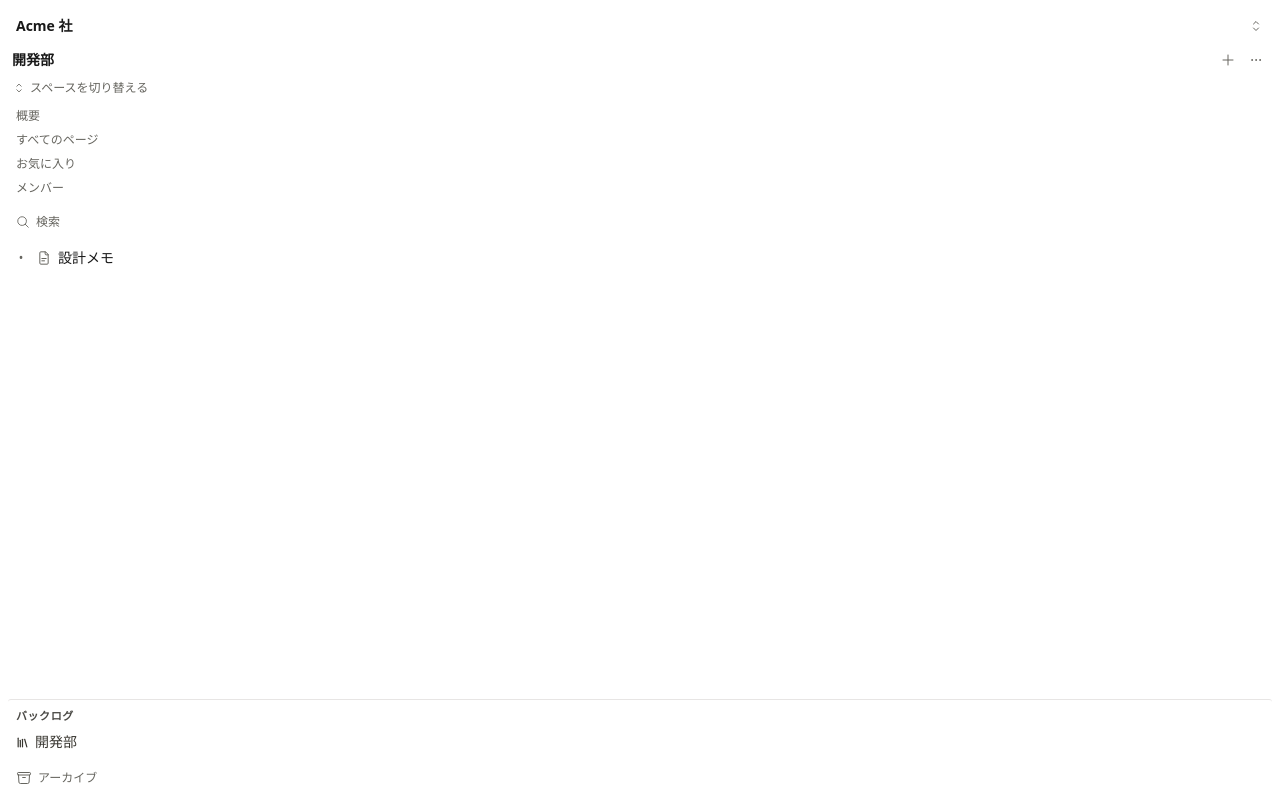
Test: KbSidebar › アーカイブ › アーカイブ済みでは作る・名前を変えるを出さない
Expected: the text "設計メモ" is shown, x1=58 y1=248 x2=114 y2=268
Click the button with aria-label "アーカイブしたページを表示".
click(68, 778)  # box x1=8 y1=764 x2=1272 y2=792
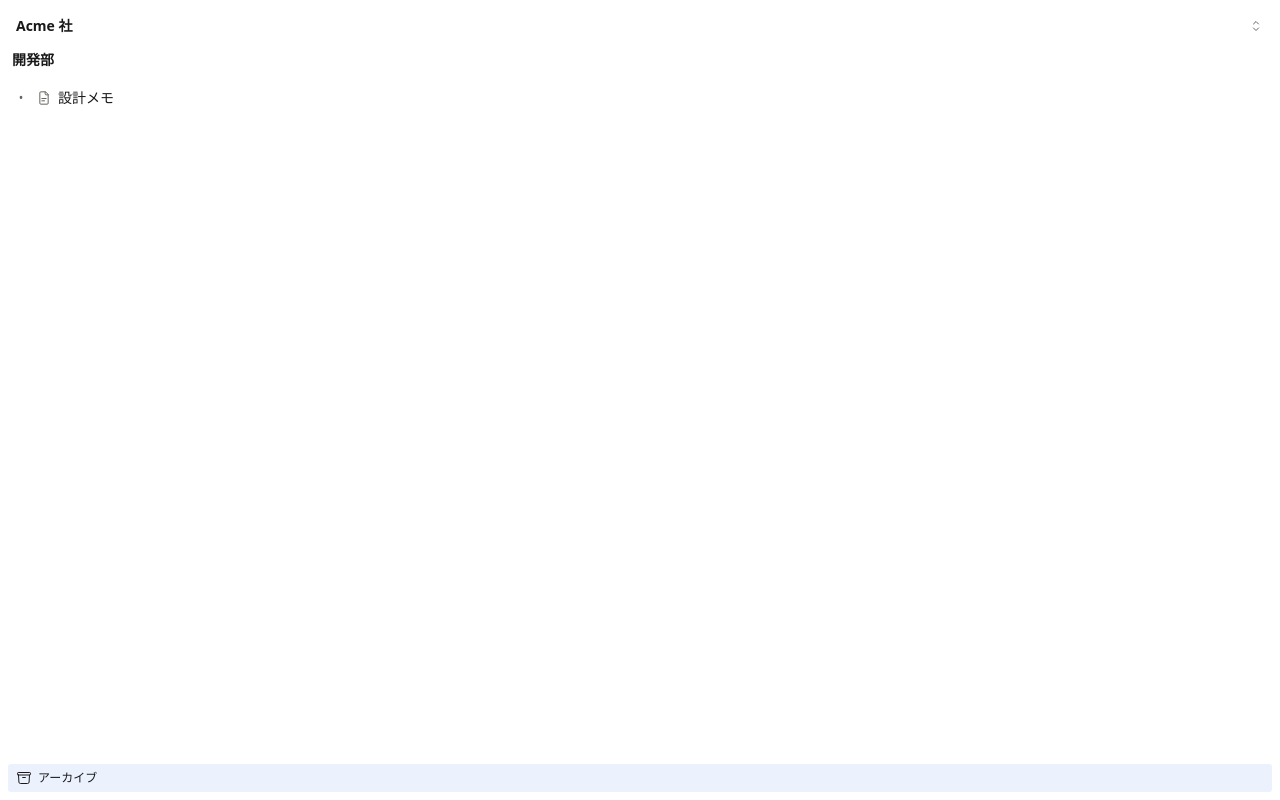
Expected: the text "設計メモ" is shown, x1=58 y1=88 x2=114 y2=108
Now the button with aria-label "現役のページに戻る" is shown, box x1=8 y1=764 x2=1272 y2=792
